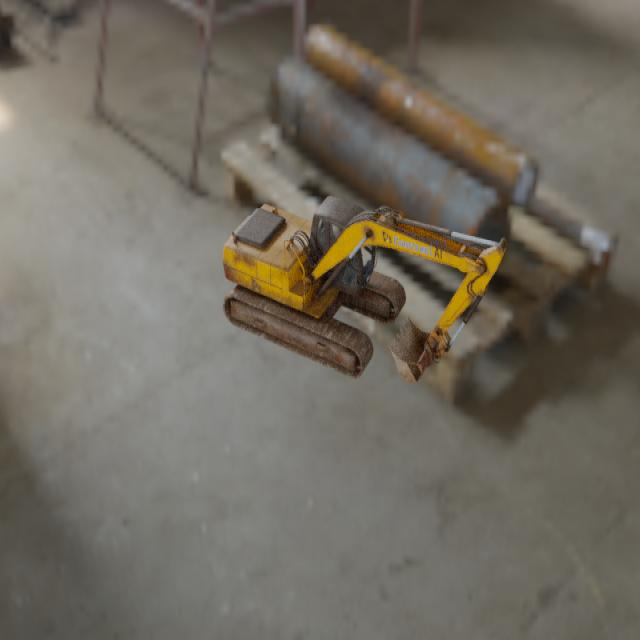excavator: (222, 195, 507, 382)
